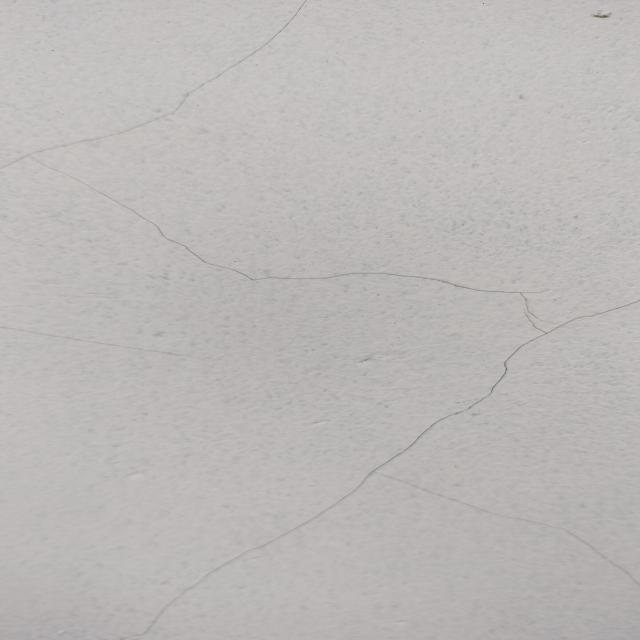Crack: (3, 0, 640, 640)
